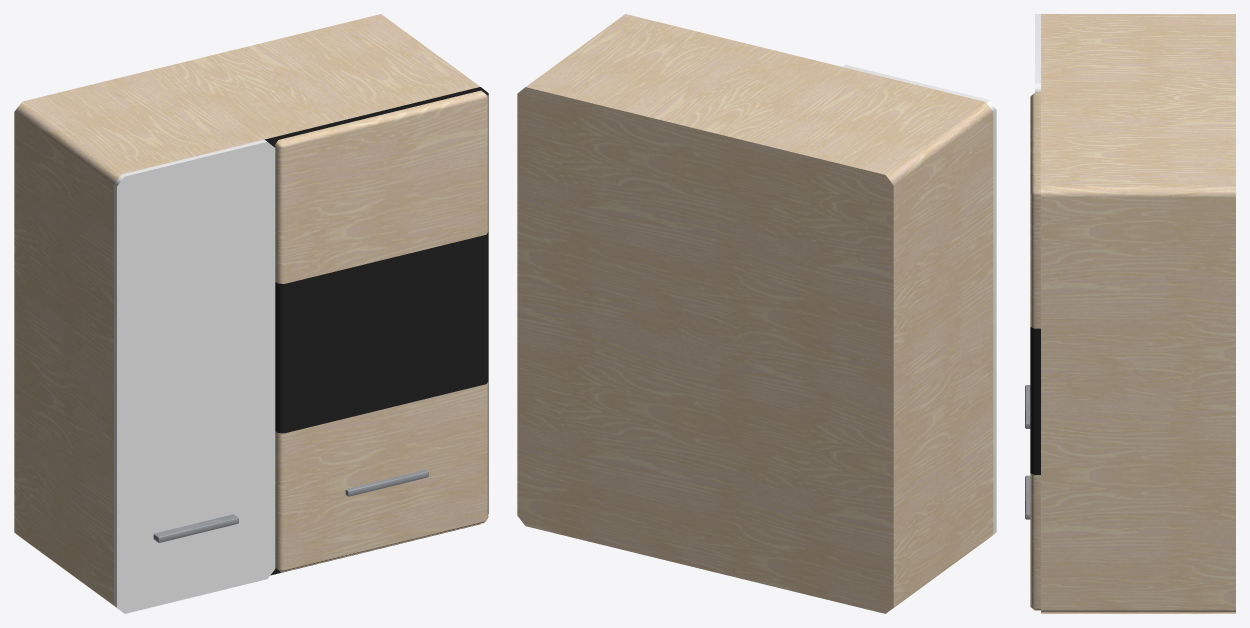
The model's file is wall_cabinet_014.fbx.
3 views of the same model, side by side, from view 1: azimuth 30°, elevation 25°; view 2: azimuth 150°, elevation 25°; view 3: azimuth 270°, elevation 25° (orthographic). The views are drawn at different scales.
Visible parts, largest first — view 1: wall_cabinet_014; view 2: wall_cabinet_014; view 3: wall_cabinet_014.
Boxes of the visible parts, x1=… form: wall_cabinet_014: x1=14, y1=14, x2=488, y2=613; wall_cabinet_014: x1=517, y1=14, x2=996, y2=613; wall_cabinet_014: x1=1025, y1=14, x2=1235, y2=613.
Bounding box in the file's own units: 151 × 75.23 × 169.
